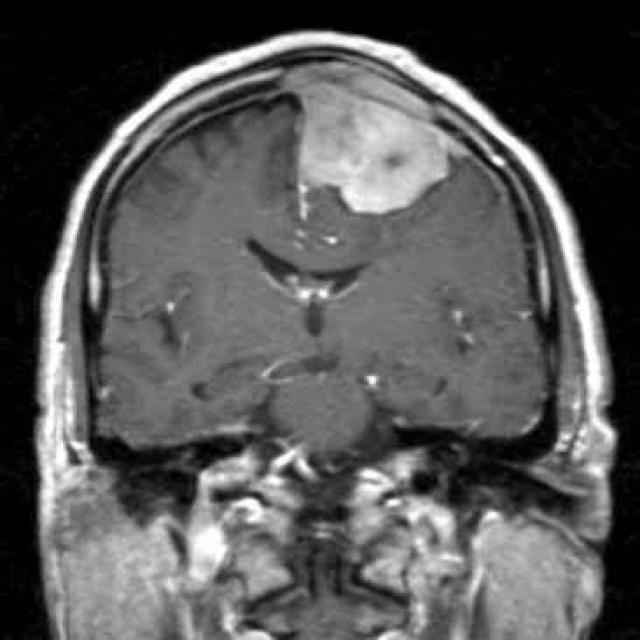Tumor: (271, 58, 470, 243)
